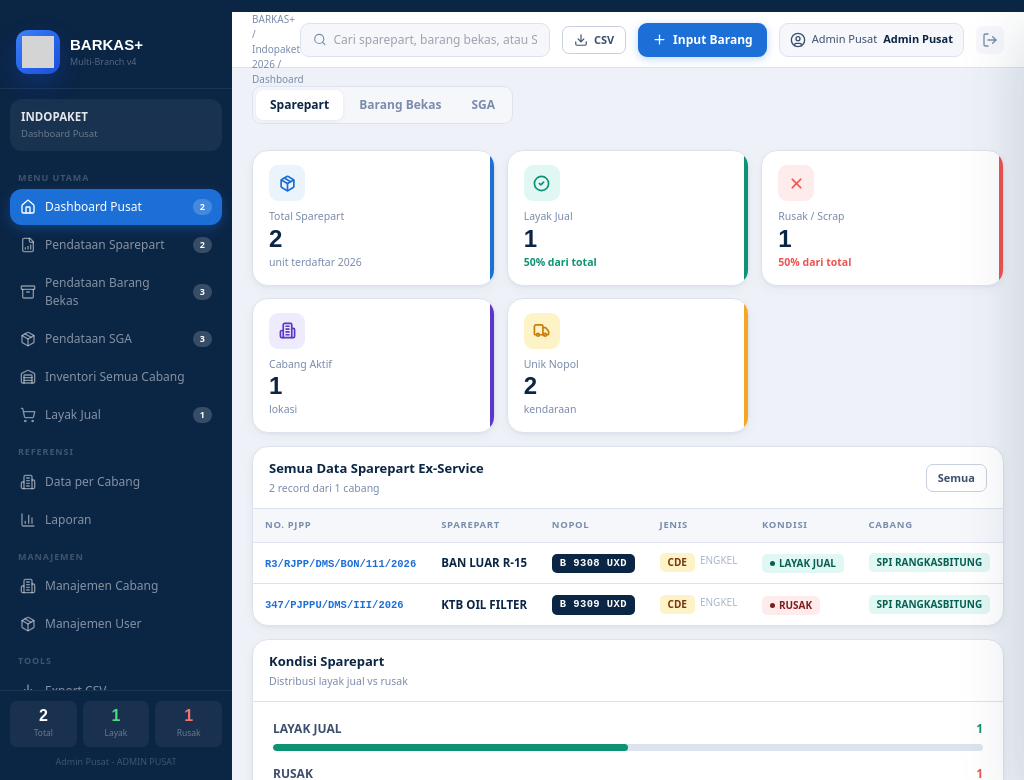
Test: BarkasApp v3 UI › shows used goods branch summaries without crashing on an empty branch
Click the button "Data per Cabang" at (116, 482), box top-left (10, 464), bottom-right (222, 500)
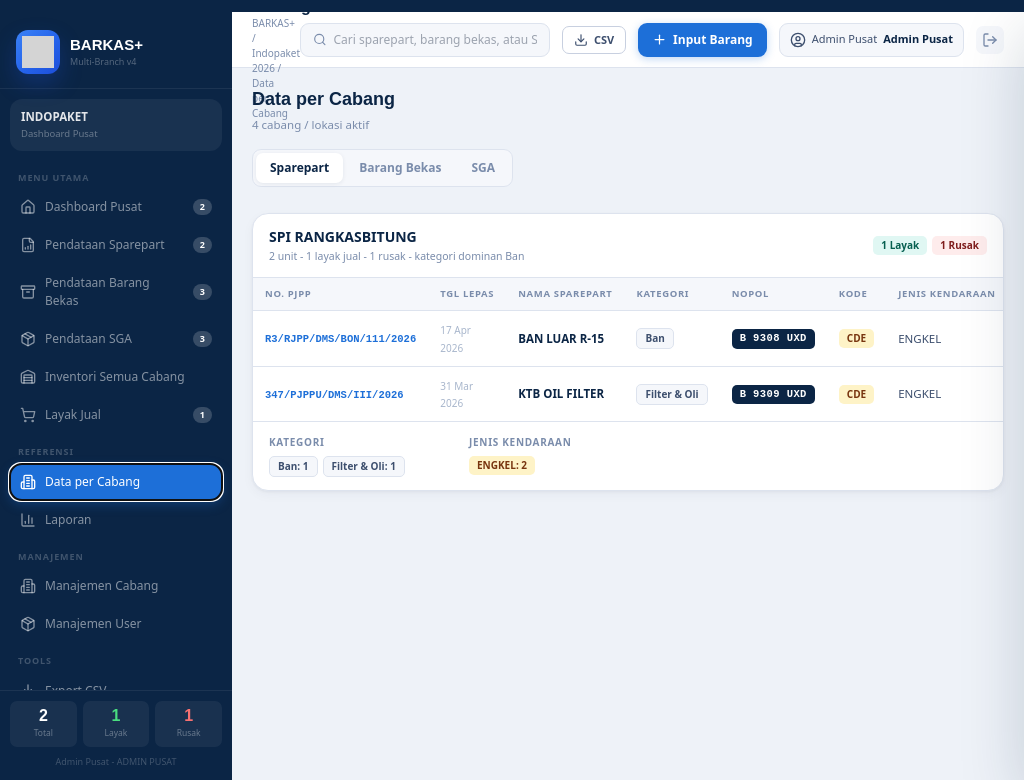
Expected: the text "SPI RANGKASBITUNG" is shown, top-left (269, 227), bottom-right (417, 246)
Click the button "Barang Bekas" at (400, 168), box top-left (345, 153), bottom-right (456, 183)
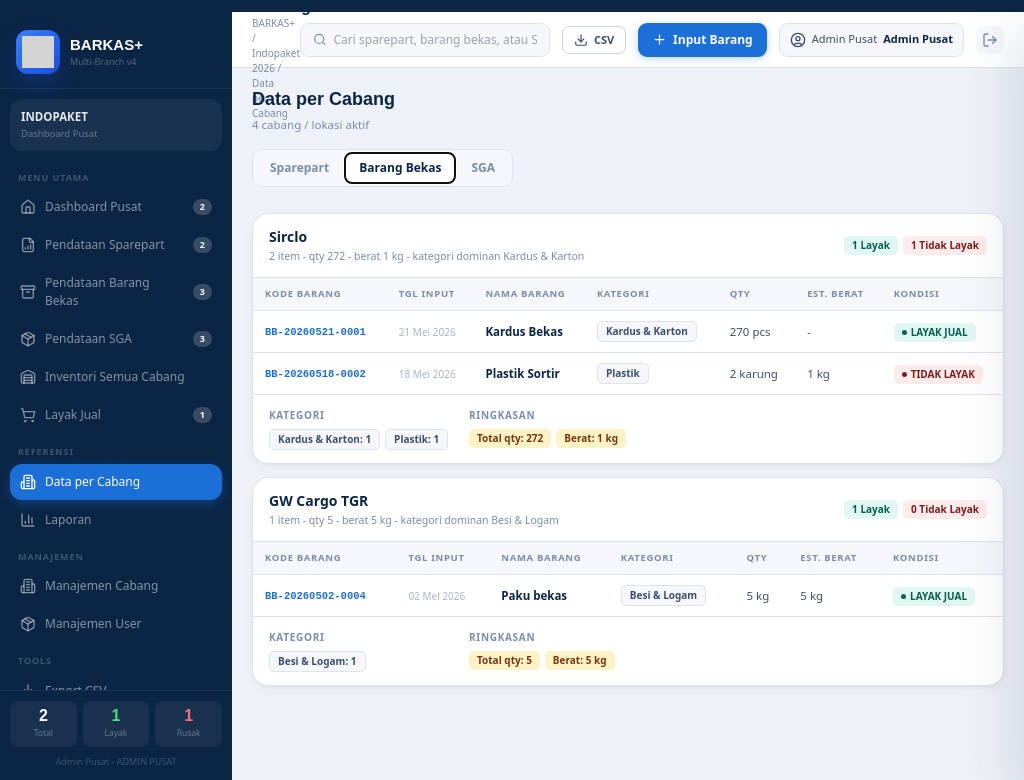
Expected: the text "Sirclo" is shown, top-left (269, 227), bottom-right (307, 246)
Expected: the text "GW Cargo TGR" is shown, top-left (269, 491), bottom-right (368, 510)
Click the button "SGA" at (483, 168), box top-left (458, 153), bottom-right (509, 183)
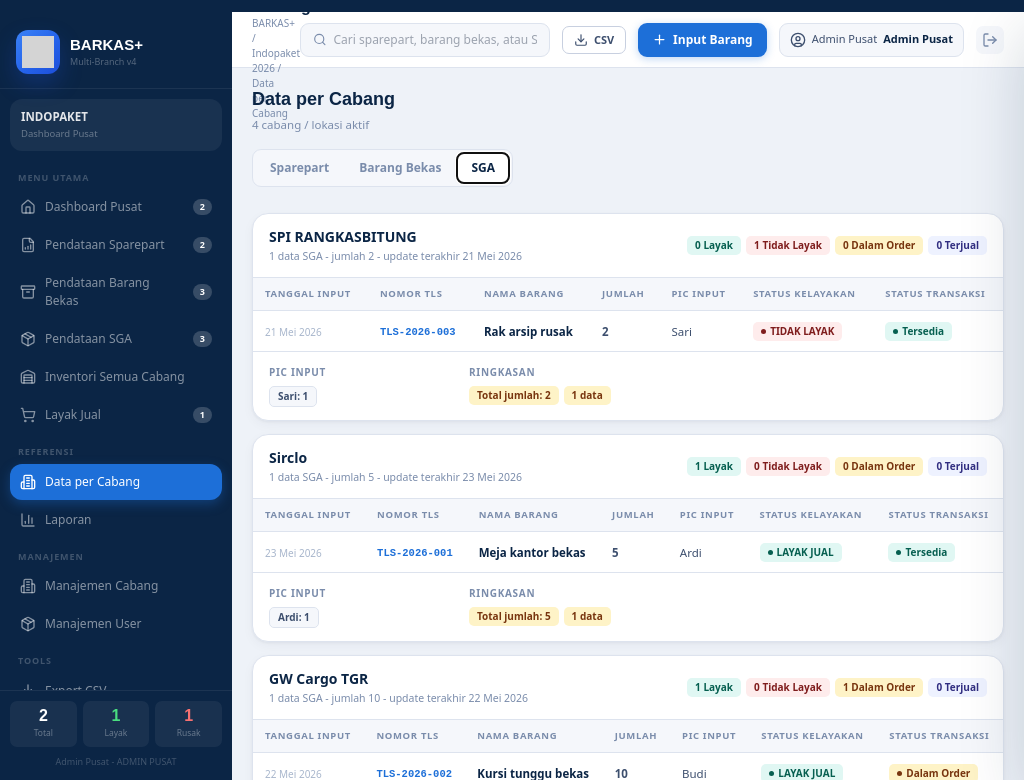
Expected: the text "Meja kantor bekas" is shown, top-left (479, 545), bottom-right (586, 560)
Expected: the text "Kursi tunggu bekas" is shown, top-left (477, 766), bottom-right (589, 779)
